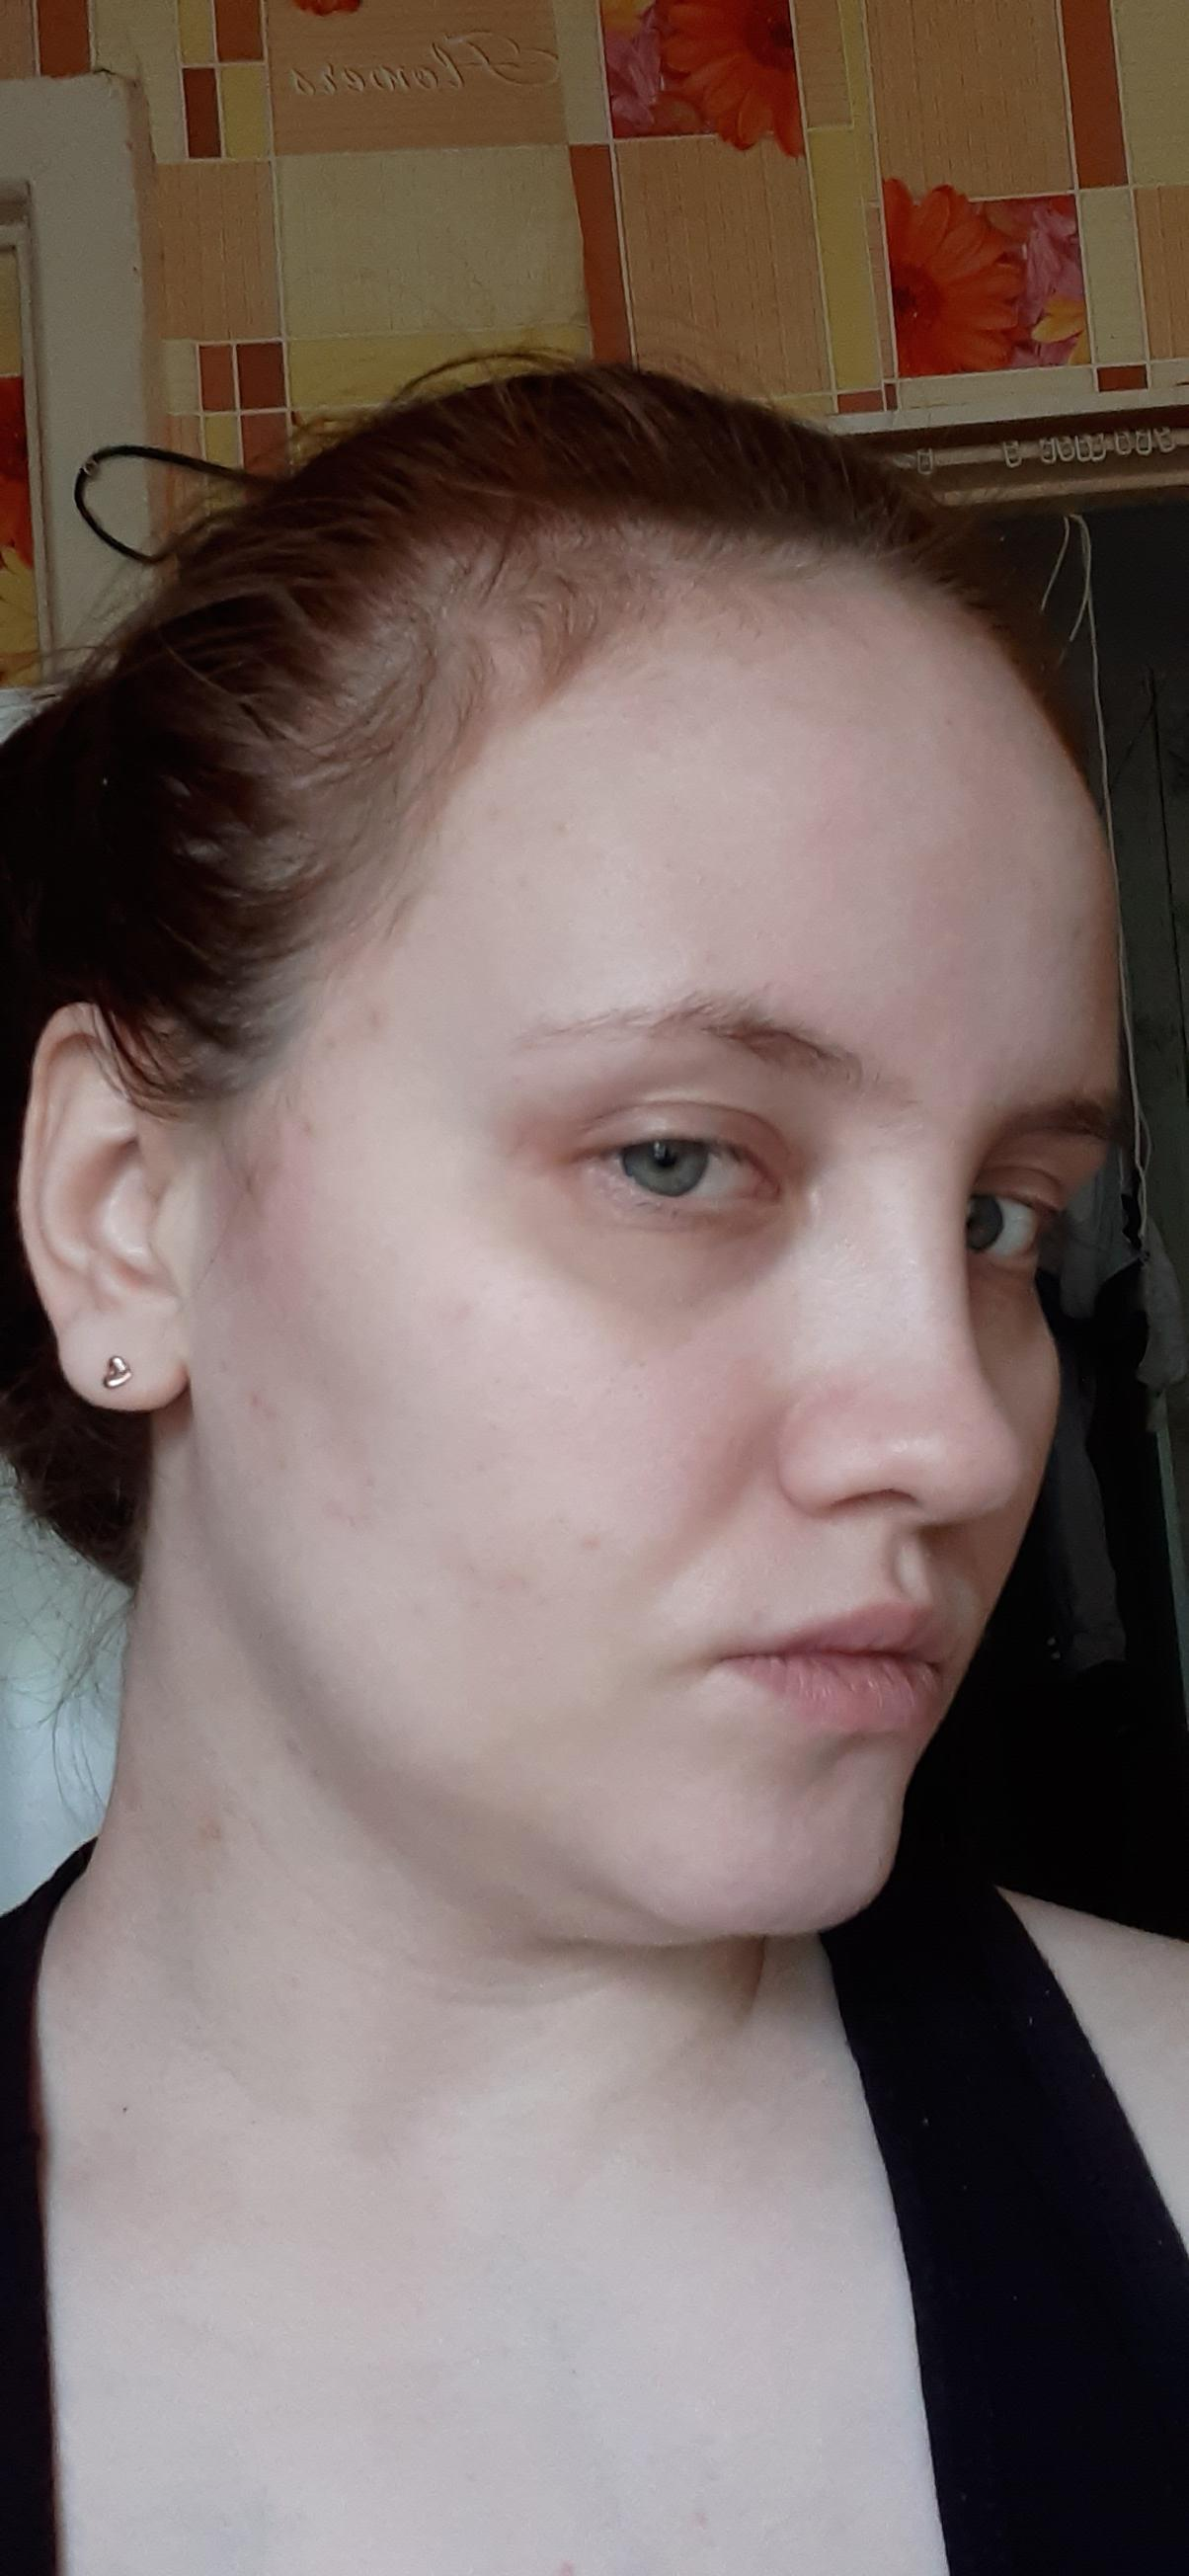Acne: (435, 1296, 478, 1324), (292, 1112, 325, 1147), (200, 1815, 228, 1853), (476, 805, 516, 830), (246, 1390, 281, 1418), (567, 1526, 609, 1548), (365, 999, 391, 1028), (545, 816, 578, 839)
